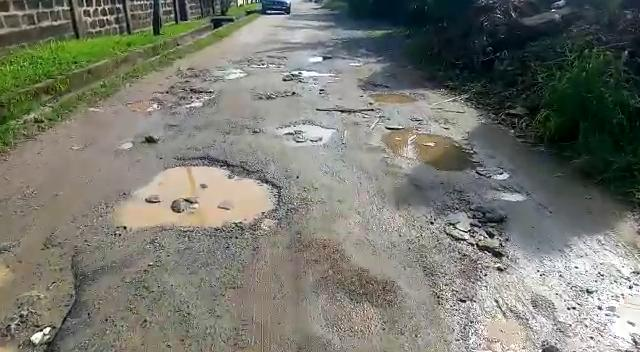pothole: (112, 155, 295, 235), (0, 234, 91, 350), (382, 127, 482, 175), (128, 81, 219, 115), (278, 120, 336, 147), (365, 91, 421, 106), (313, 106, 384, 117), (280, 69, 341, 81)
